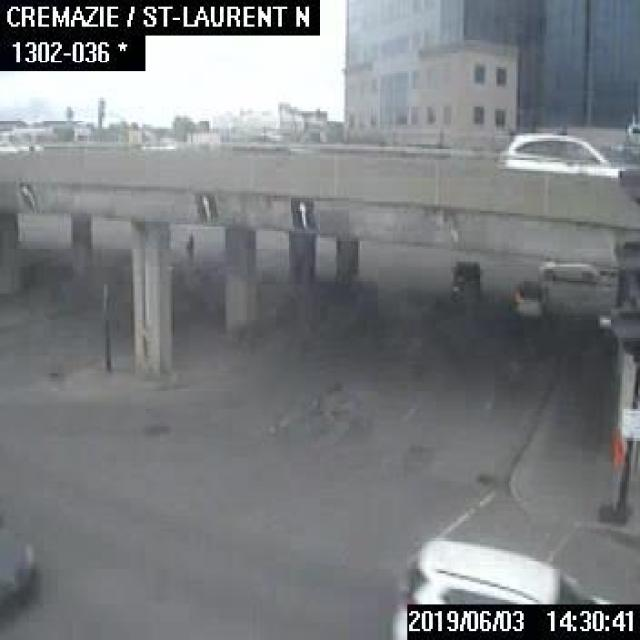vehicle: (389, 531, 607, 638), (503, 124, 638, 174), (0, 514, 35, 616), (536, 258, 604, 282), (508, 283, 552, 318), (449, 260, 483, 300)
